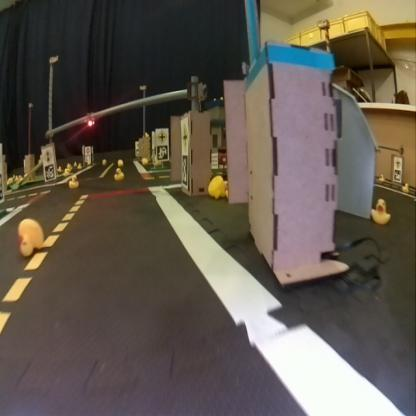Duckie: (17, 218, 41, 253), (370, 200, 388, 225), (208, 176, 227, 198), (68, 174, 78, 186), (399, 182, 407, 193), (115, 167, 122, 178), (117, 158, 123, 166)
Intersection sign: (180, 119, 189, 154), (155, 129, 167, 143)
QR code: (181, 155, 187, 187), (156, 146, 168, 160), (44, 163, 54, 179)
Signal sign: (43, 146, 53, 161)
Traffic light: (87, 118, 94, 126)
